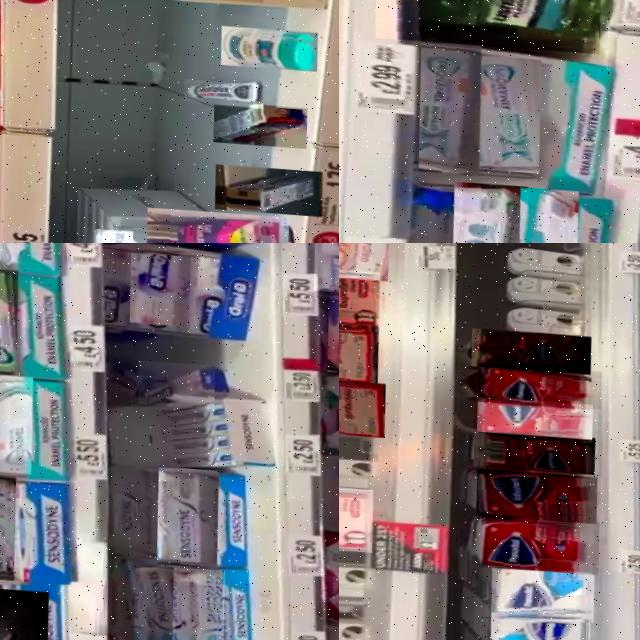Other: (471, 510, 598, 576), (467, 465, 595, 524), (481, 563, 590, 624), (470, 360, 599, 411), (465, 326, 589, 376), (466, 427, 592, 476), (136, 205, 284, 243), (470, 395, 590, 440), (214, 25, 316, 73), (479, 610, 586, 640), (339, 265, 379, 334), (339, 375, 383, 437), (339, 319, 378, 383), (178, 77, 260, 107), (339, 482, 370, 552), (339, 243, 390, 281)
Toothpaste: (407, 40, 485, 176), (469, 54, 544, 174), (145, 465, 219, 569), (206, 163, 321, 219), (437, 179, 530, 243), (123, 252, 192, 327), (205, 99, 304, 150), (160, 566, 224, 640), (503, 186, 582, 243), (121, 563, 177, 640), (132, 359, 214, 410), (0, 371, 34, 474), (0, 581, 46, 640), (0, 265, 21, 374), (319, 284, 339, 376), (0, 470, 16, 580), (306, 243, 339, 295)
